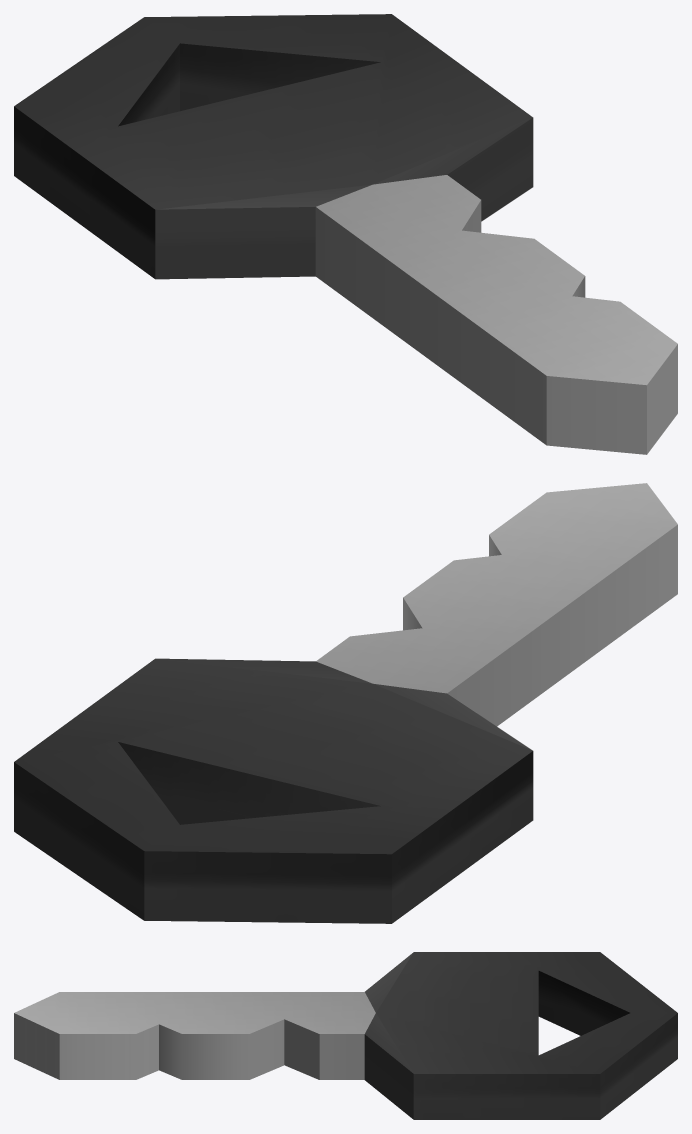
Rendered from key3.fbx.
The picture shows the model from 3 angles, top to bottom: view 1: azimuth 30°, elevation 25°; view 2: azimuth 150°, elevation 25°; view 3: azimuth 270°, elevation 25°; orthographic projection. The views are drawn at different scales.
Parts seen in each view (by area): view 1: KeyRoom; view 2: KeyRoom; view 3: KeyRoom.
Part boxes in pixels (box(x1,y1,x2,y2)): KeyRoom: box(14, 14, 677, 454); KeyRoom: box(14, 483, 677, 923); KeyRoom: box(14, 952, 677, 1119).
Bounding box in the file's own units: 6.72 × 1.18 × 15.5.
